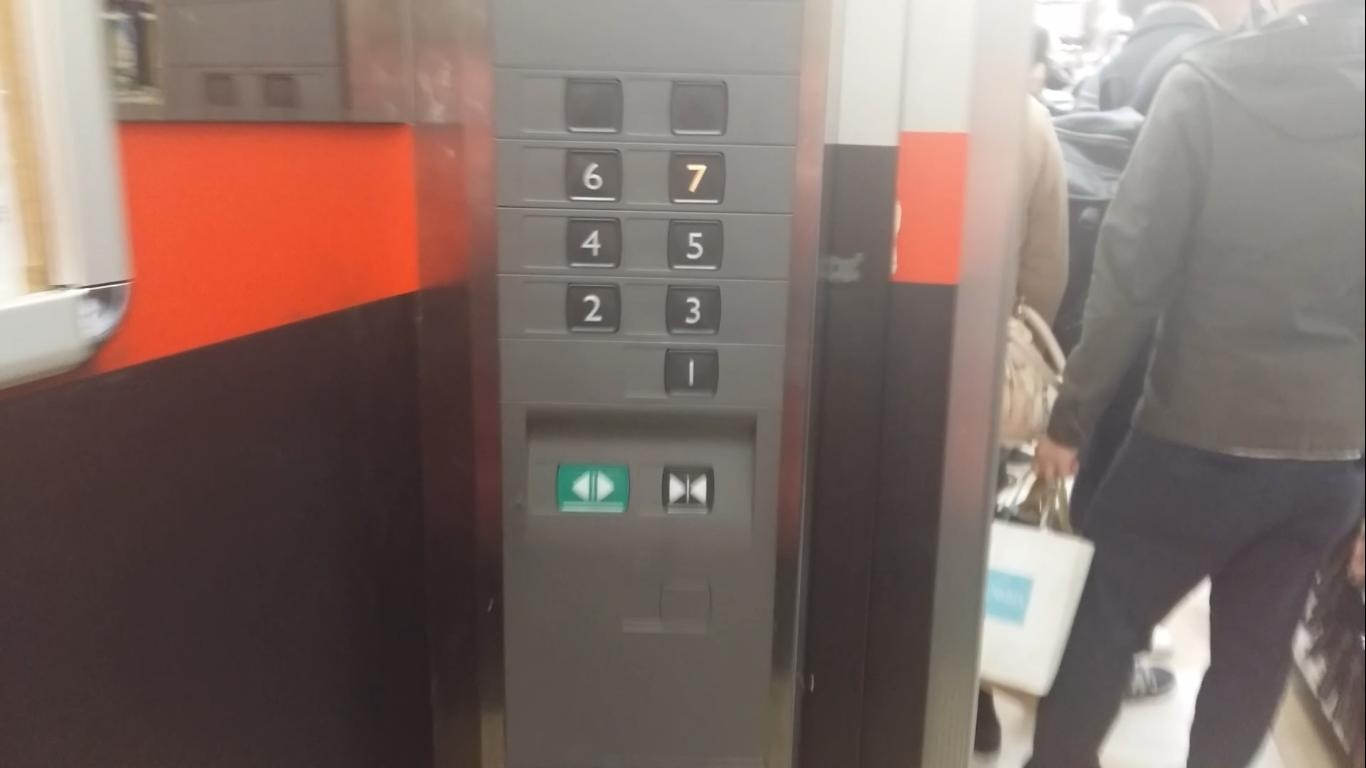1: (660, 344, 723, 401)
2: (562, 280, 625, 338)
3: (661, 280, 724, 338)
4: (563, 213, 625, 273)
5: (664, 215, 727, 275)
6: (561, 144, 625, 207)
7: (665, 147, 730, 207)
close: (657, 462, 719, 517)
empty: (563, 73, 627, 136), (667, 76, 731, 139)
open: (552, 459, 634, 517)
